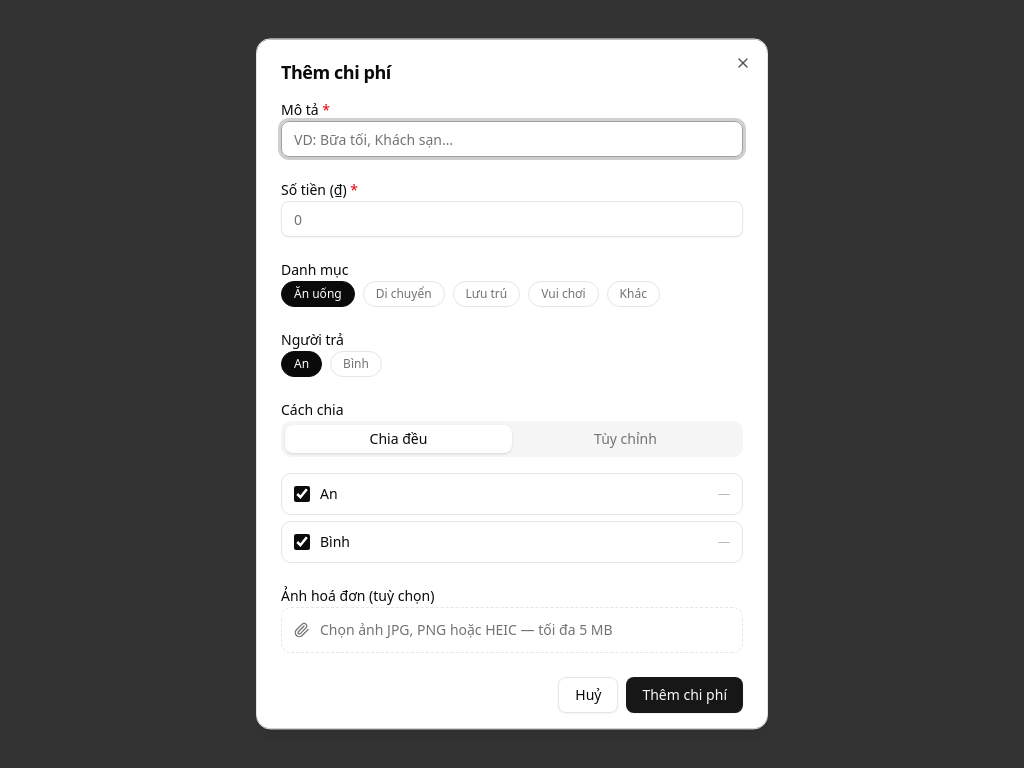
Test: AddExpenseDialog — formTouched + error derivation › shows amount error after submitting with description but no amount
The image size is (1024, 768).
Step 1. Type "Bữa tối" into the field labelled "Mô tả *" → (512, 139), box [281, 121, 743, 157]
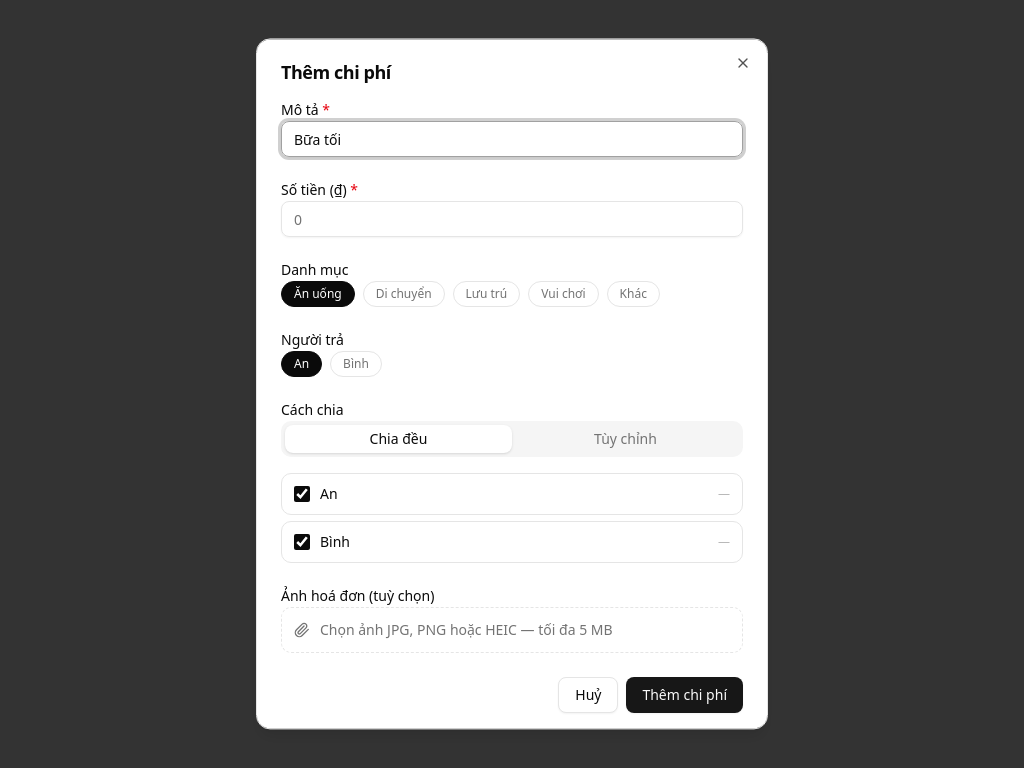
Step 2. Click the button "Thêm chi phí" → (685, 695), box [626, 677, 743, 713]
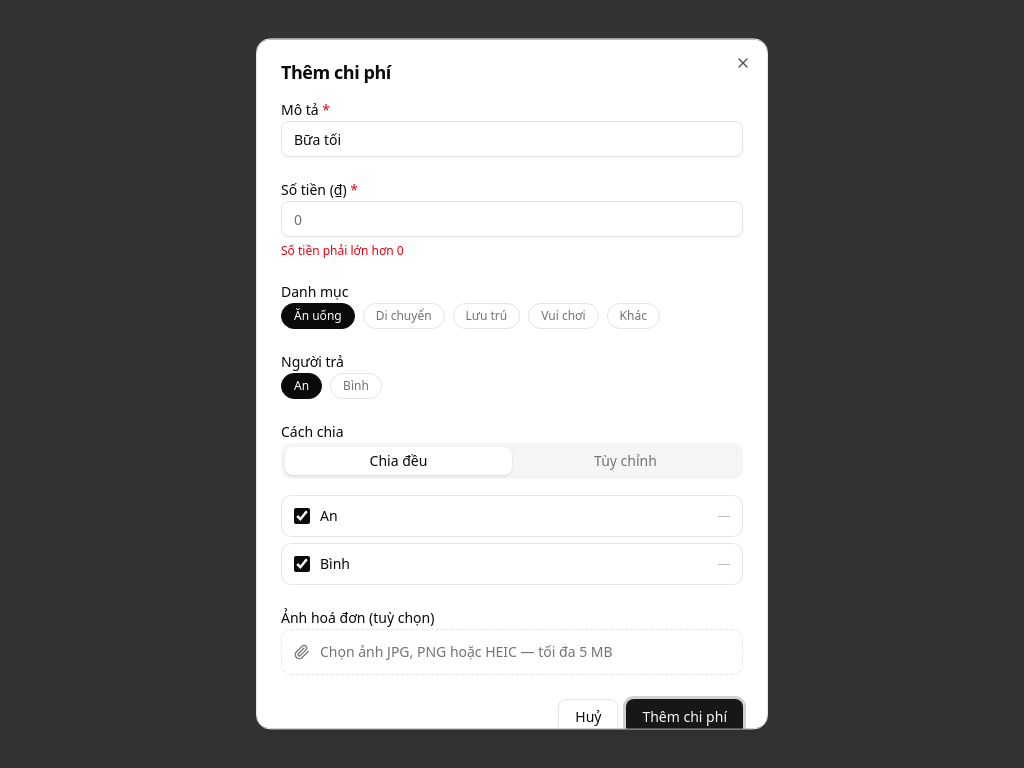
Result: the text "Số tiền phải lớn hơn 0" is shown at [281, 242, 404, 259]
